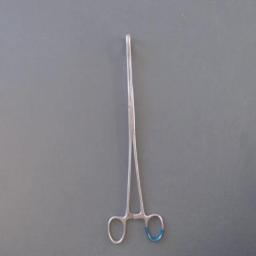Sponge Forceps: (104, 28, 166, 248)
